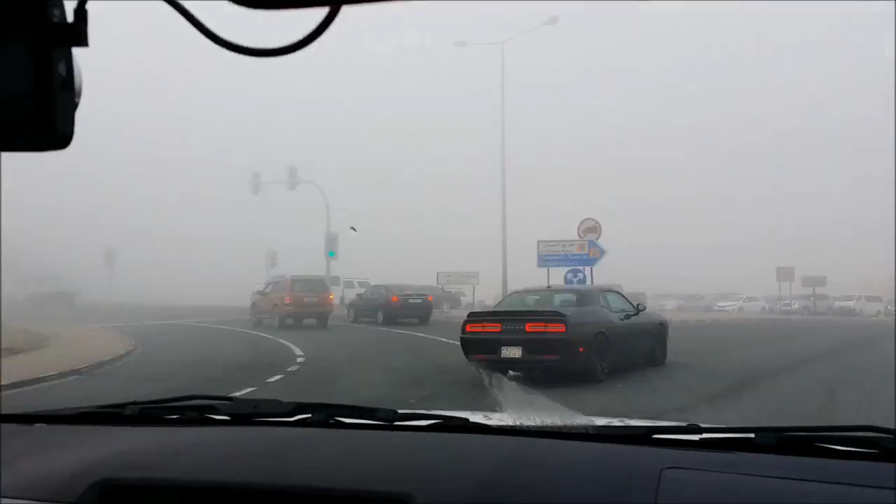car: (457, 282, 672, 385), (249, 273, 333, 329), (345, 282, 434, 327), (321, 273, 378, 308), (397, 284, 462, 314), (714, 291, 770, 318), (831, 292, 887, 317), (658, 290, 717, 313), (777, 293, 836, 316), (429, 287, 472, 310)
